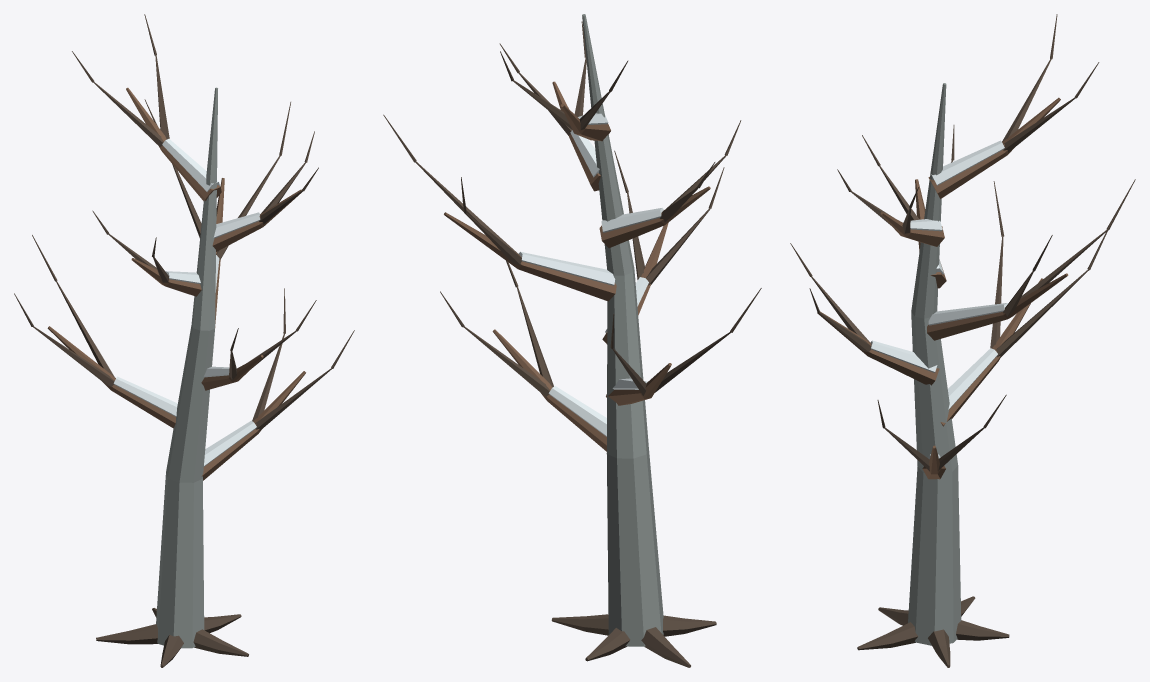
Rendered from TREE_17_DeadSnowy.glb.
3 views of the same model, side by side, from view 1: azimuth 30°, elevation 25°; view 2: azimuth 150°, elevation 25°; view 3: azimuth 270°, elevation 25° (orthographic). The views are drawn at different scales.
Parts seen in each view (by area): view 1: TREE_17_DeadSnowy; view 2: TREE_17_DeadSnowy; view 3: TREE_17_DeadSnowy.
Part boxes in pixels (box(x1,y1,x2,y2)): TREE_17_DeadSnowy: box(14, 14, 354, 667); TREE_17_DeadSnowy: box(383, 14, 761, 667); TREE_17_DeadSnowy: box(790, 14, 1135, 667).
Bounding box in the file's own units: 4.39 × 7.72 × 4.05.
